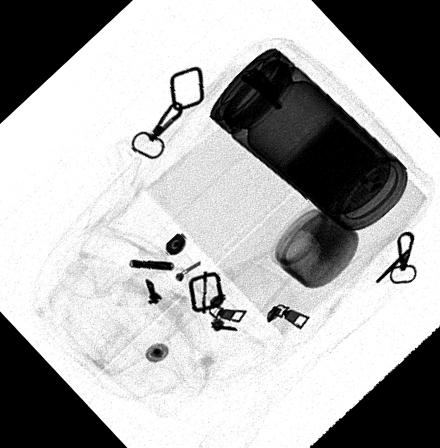Powerbank: (273, 108, 395, 222)
